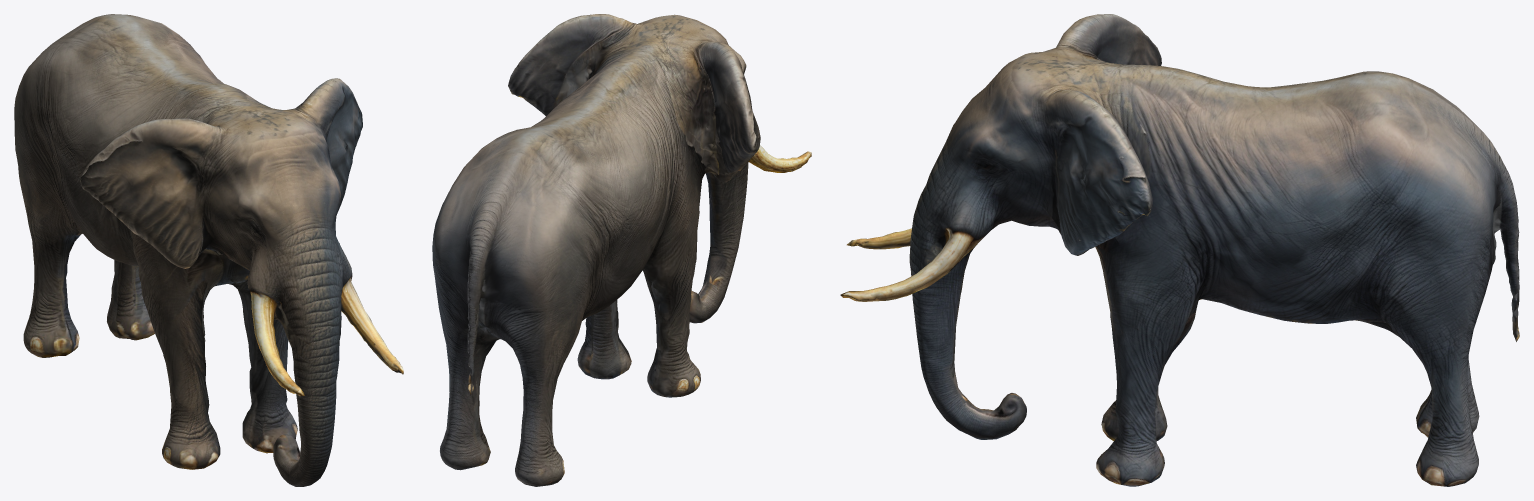
File: A_real_black_Elephant.glb
3 renders of one model, left to right at view 1: azimuth 30°, elevation 25°; view 2: azimuth 150°, elevation 25°; view 3: azimuth 270°, elevation 25°, orthographic. The views are drawn at different scales.
Size of the model in its own units: 0.6135 by 0.786 by 1.2.
Materials: 1 (1 with a texture image).
